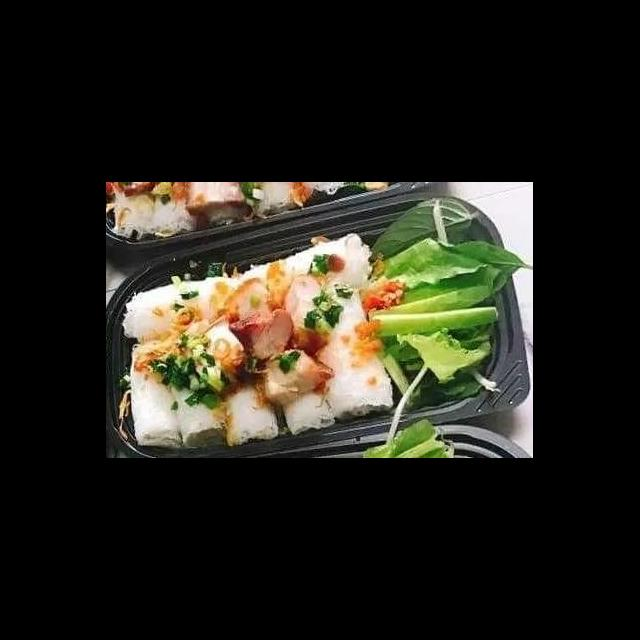banh hoi: (312, 275, 398, 420), (234, 231, 376, 312), (120, 273, 246, 344), (170, 334, 232, 450), (125, 340, 188, 450), (222, 382, 282, 447), (278, 384, 338, 437)
banh hoi heo quay: (122, 217, 493, 451)
thit heo quay: (252, 344, 338, 410), (280, 270, 332, 361), (225, 305, 298, 366)
